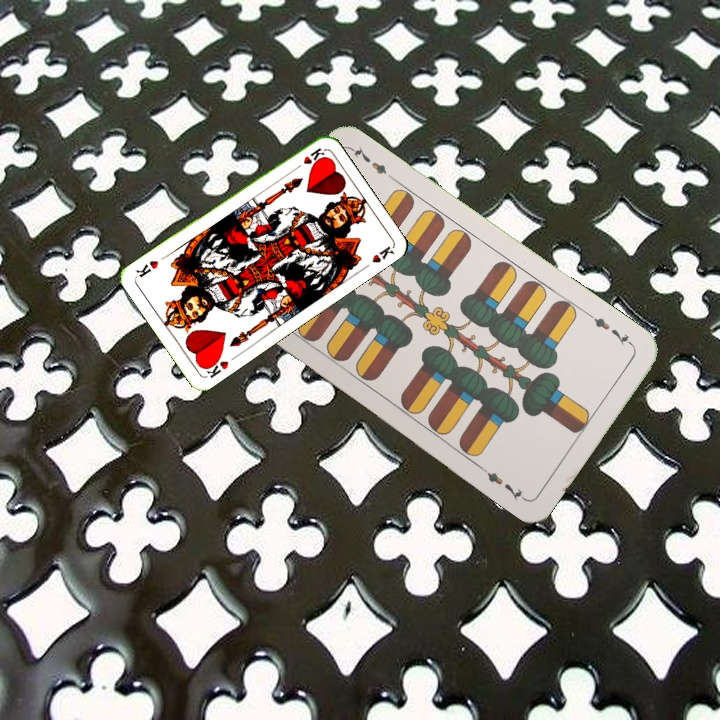E7: (585, 310, 636, 349)
HK: (290, 144, 327, 173), (200, 352, 231, 381)
